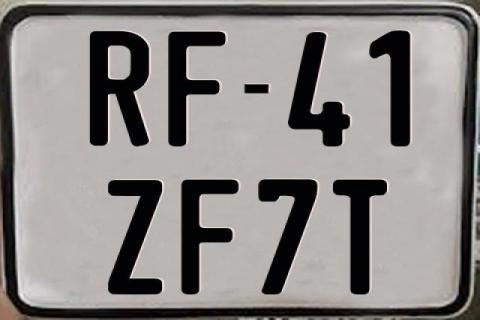0: (288, 31, 350, 151), (258, 177, 318, 295), (368, 28, 411, 146)
F: (180, 178, 241, 296), (165, 29, 223, 147)
R: (88, 29, 152, 145)
T: (332, 177, 386, 292)
Z: (107, 180, 161, 298)
